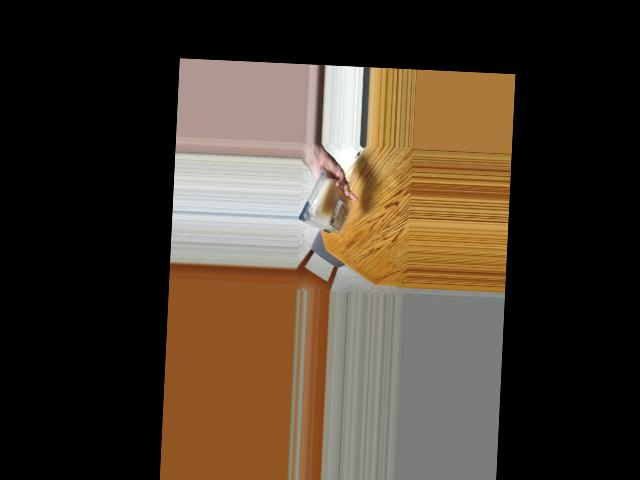cheese: (302, 176, 351, 234)
